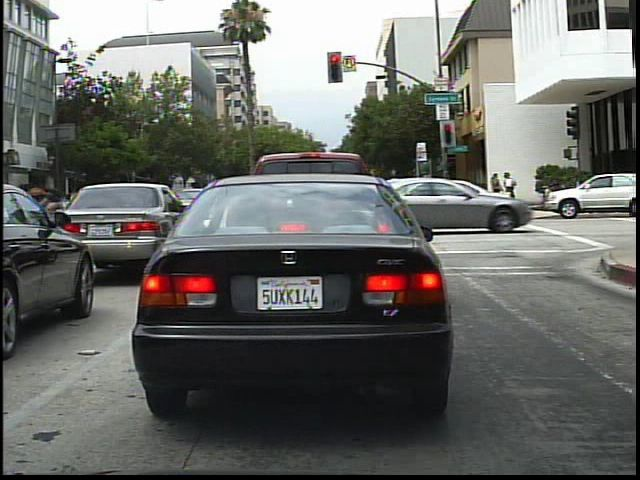person: (35, 176, 72, 236), (500, 165, 521, 209), (483, 167, 504, 210)
